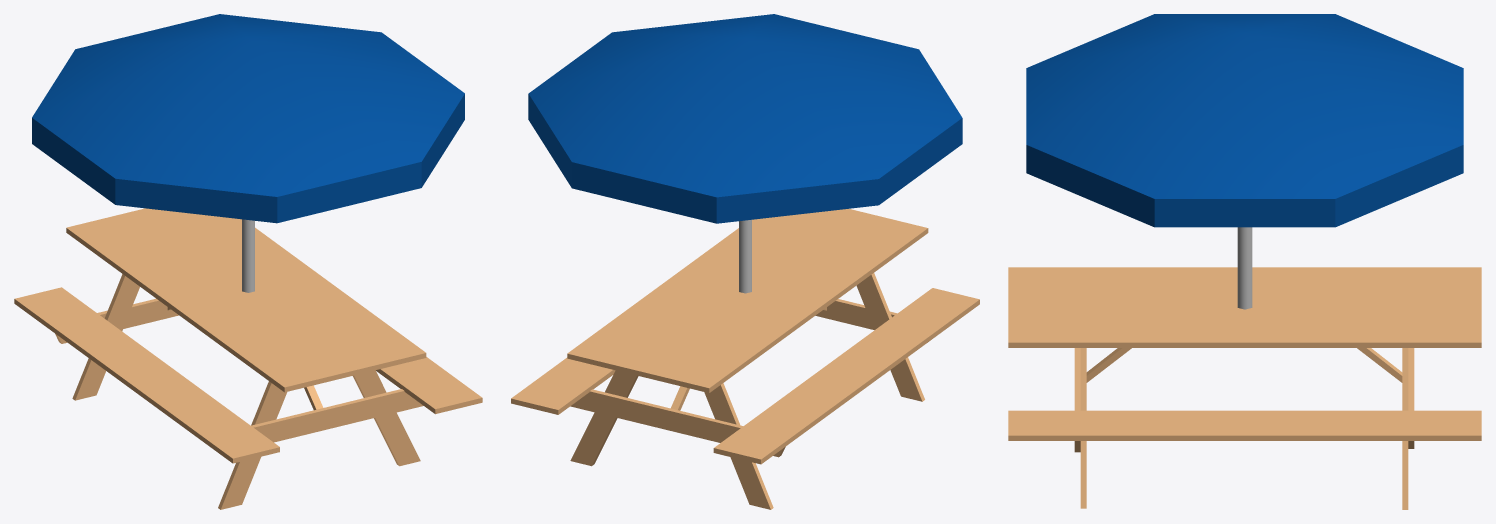
Rendered from PicnicTableUmbrella.FBX.
3 renders of one model, left to right at view 1: azimuth 30°, elevation 25°; view 2: azimuth 150°, elevation 25°; view 3: azimuth 270°, elevation 25°, orthographic. The views are drawn at different scales.
Parts seen in each view (by area): view 1: Box001; view 2: Box001; view 3: Box001.
Boxes of the visible parts, x1=… form: Box001: x1=14, y1=14, x2=482, y2=509; Box001: x1=511, y1=14, x2=979, y2=509; Box001: x1=1008, y1=14, x2=1481, y2=509.
Size of the model in its own units: 1.88 by 2.01 by 2.03.
1 material, 1 textured.
